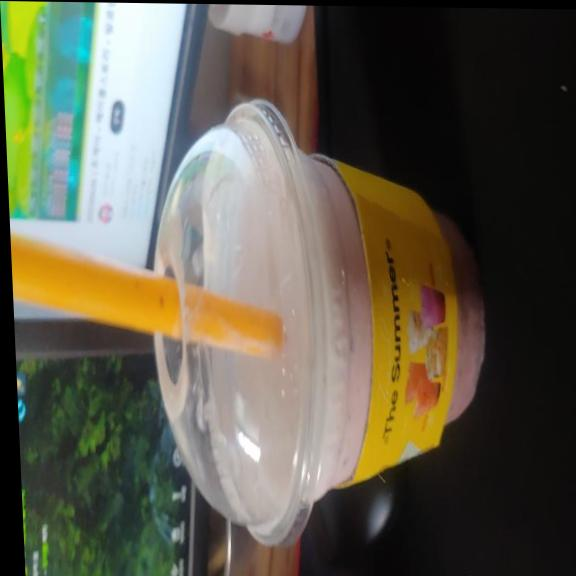Plastik: (154, 100, 484, 544)
